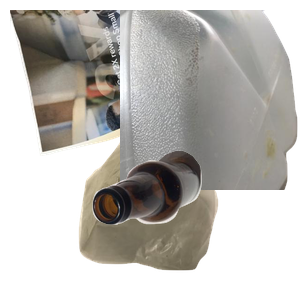glass: (90, 148, 300, 300)
paper: (10, 10, 233, 158)
plastic: (120, 10, 300, 190)
trash: (76, 124, 287, 300)
